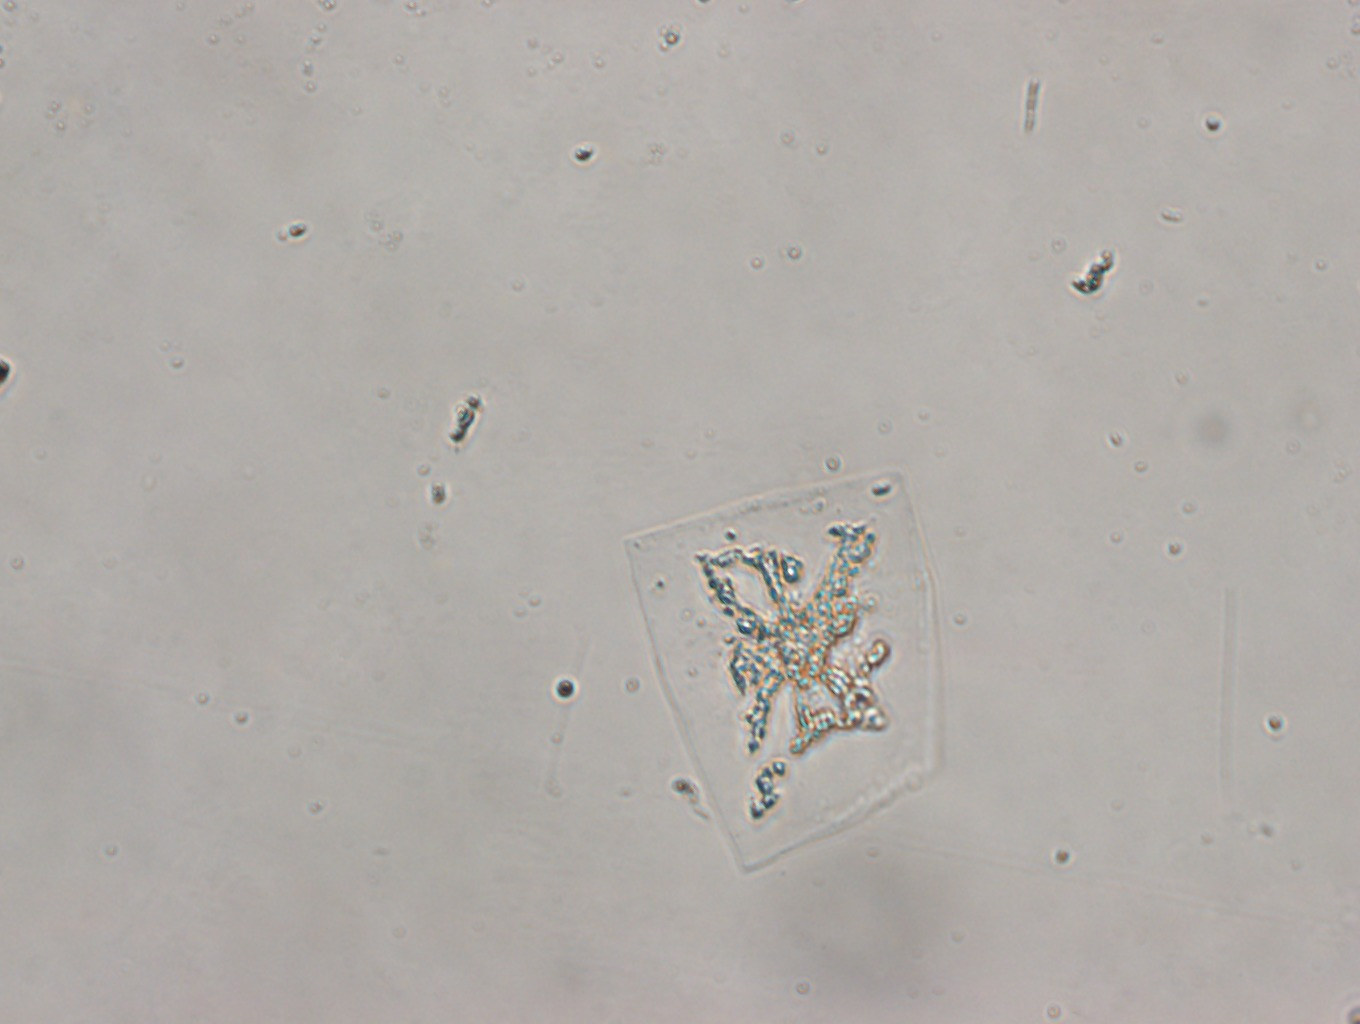helicotheca: (622, 465, 945, 876)
